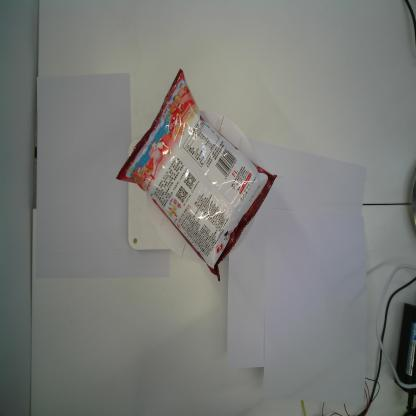Puffed Food: (114, 68, 278, 283)
